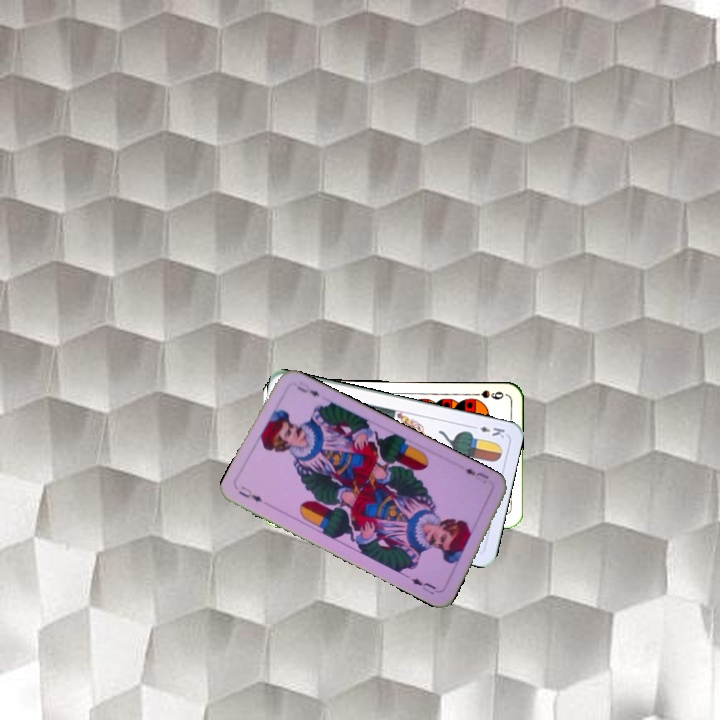EK: (467, 422, 507, 441)
EU: (234, 482, 272, 508), (460, 464, 492, 482)
S9: (466, 386, 506, 402)
